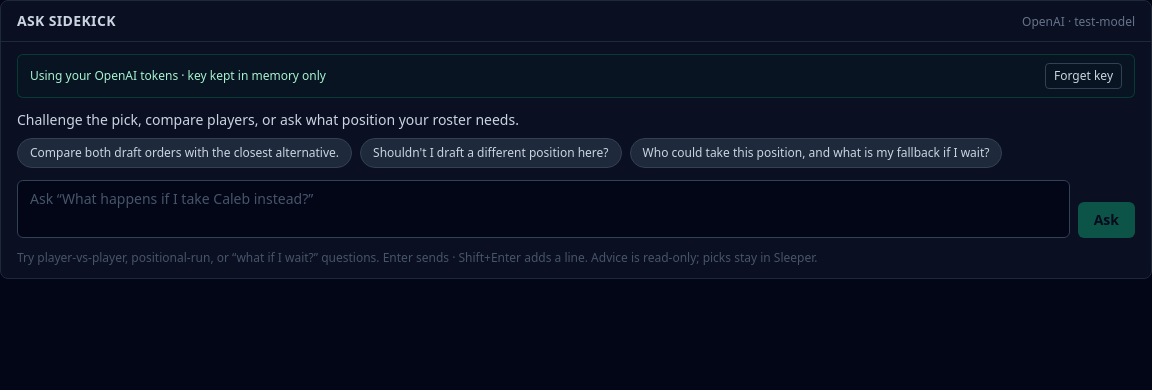
DraftChat › sends the question and renders the grounded answer
Expected: the text "Using your OpenAI tokens · key kept in memory only" is shown, [30,68,326,84]
Type "Why this RB over the available WR?" into the text box named "ask sidekick about this pick" at (543, 209), box [17,180,1070,238]
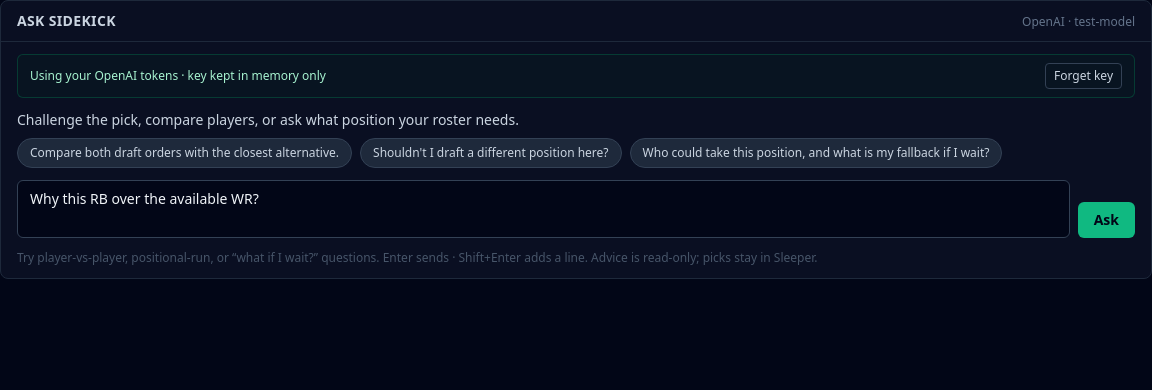
Click the button "Ask" at (1106, 220), box [1078,202,1135,238]
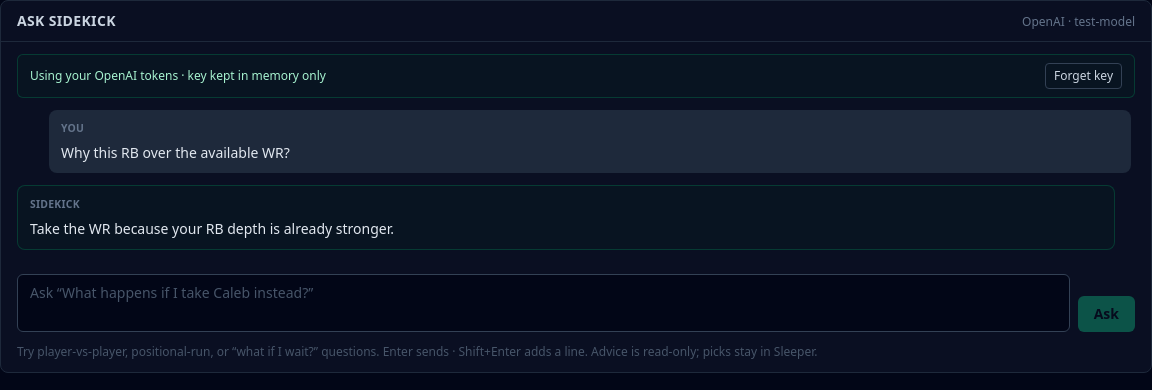
Result: the text "Take the WR because your RB depth is already stronger." is shown at [30,219,394,238]
